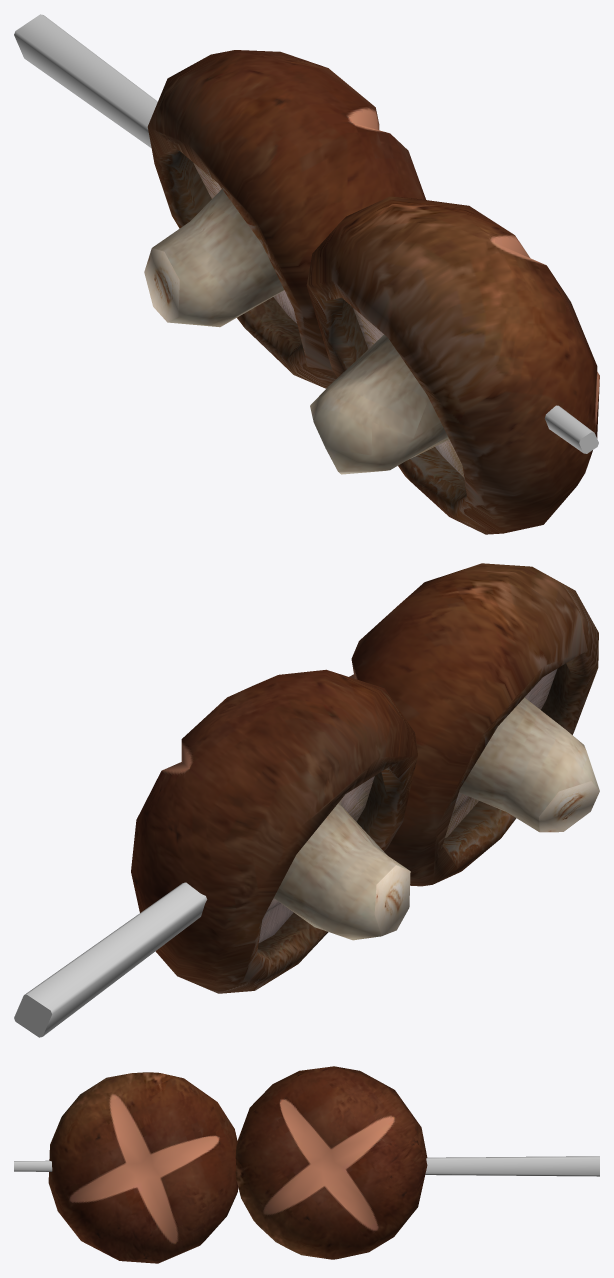
The model's file is BBQMushroom.obj.
The picture shows the model from 3 angles, top to bottom: view 1: azimuth 30°, elevation 25°; view 2: azimuth 150°, elevation 25°; view 3: azimuth 270°, elevation 25°; orthographic projection. The views are drawn at different scales.
Parts seen in each view (by area): view 1: xianggu2.001, xianggu2, 立方体; view 2: xianggu2, xianggu2.001, 立方体; view 3: xianggu2, xianggu2.001, 立方体.
Part boxes in pixels (x1,y1,x2,y2): xianggu2.001: (306, 196, 599, 534); xianggu2: (144, 50, 425, 388); 立方体: (14, 14, 598, 453); xianggu2: (131, 669, 417, 993); xianggu2.001: (349, 563, 599, 886); 立方体: (14, 882, 207, 1037); xianggu2: (235, 1066, 427, 1259); xianggu2.001: (48, 1072, 238, 1263); 立方体: (14, 1156, 599, 1176).
Size of the model in its own units: 0.8084 by 0.9518 by 2.88.
